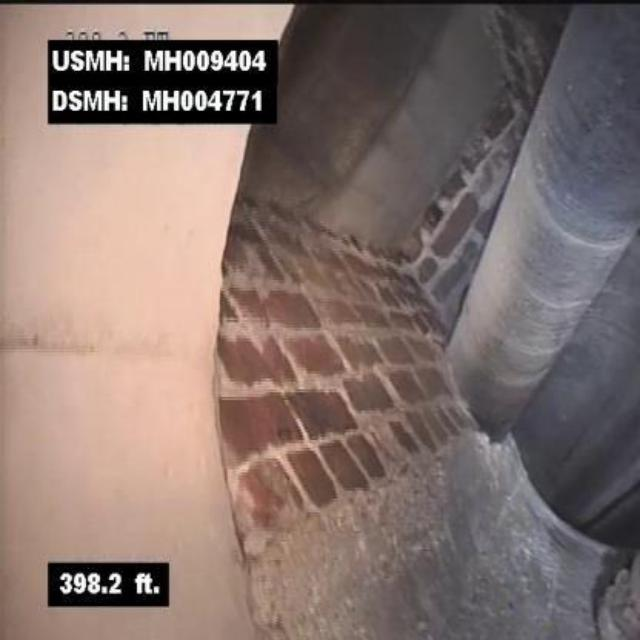Utility intrusion: (449, 0, 638, 440)
